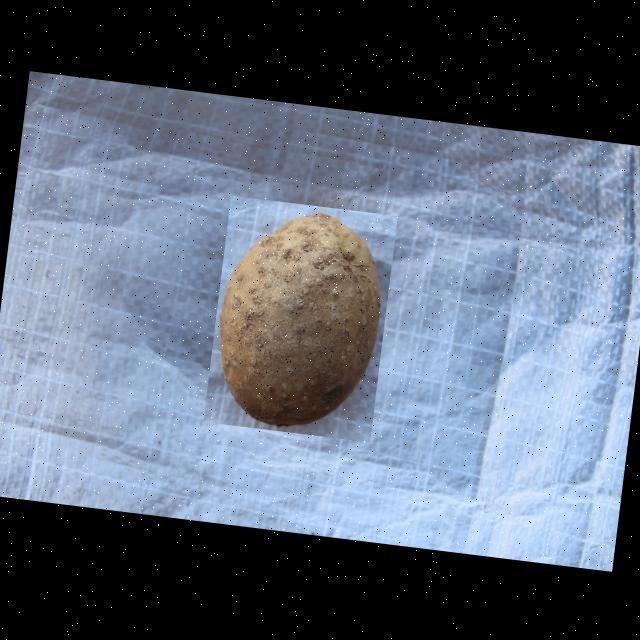Diseased-fungal potato: (202, 194, 396, 441)
